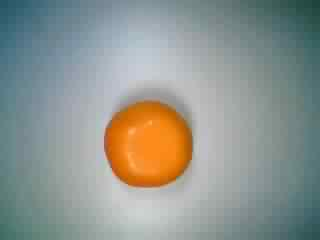orange: (99, 88, 194, 190)
